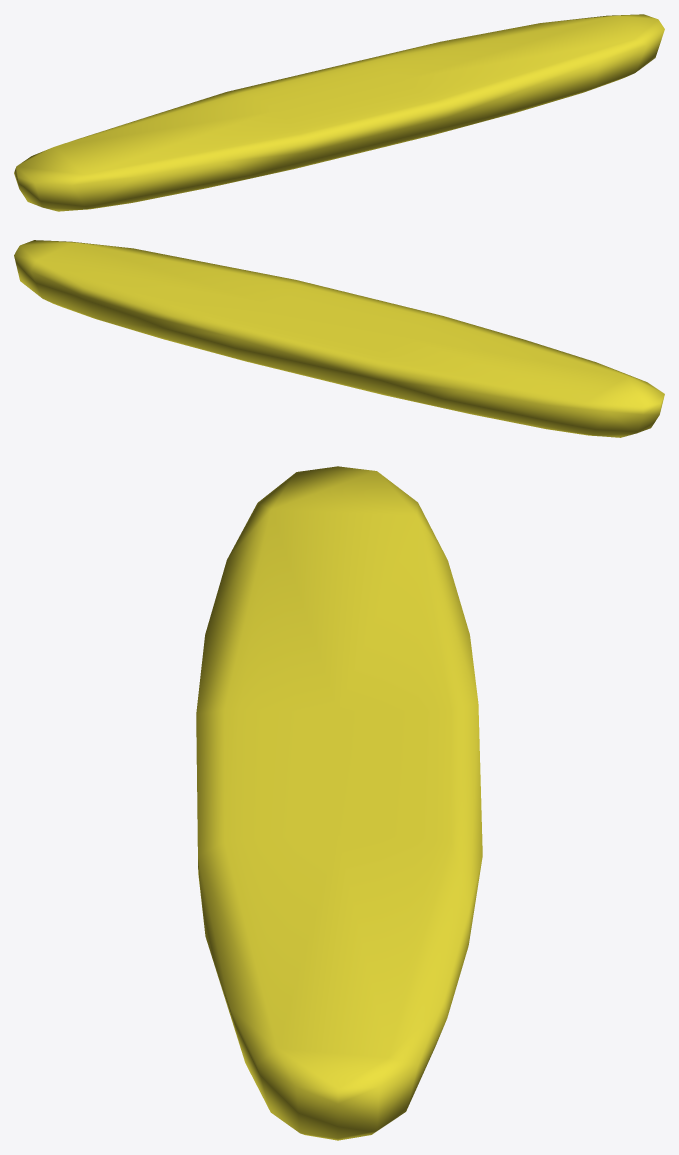
The model's file is yut(2) (4).glb.
3 renders of one model, top to bottom at view 1: azimuth 30°, elevation 25°; view 2: azimuth 150°, elevation 25°; view 3: azimuth 270°, elevation 25°, orthographic. The views are drawn at different scales.
Visible parts, largest first — view 1: Cube.003; view 2: Cube.003; view 3: Cube.003.
Boxes of the visible parts, x1,y1,x2,y2 form: Cube.003: (14, 14, 664, 211); Cube.003: (14, 240, 664, 437); Cube.003: (196, 466, 482, 1140).
Size of the model in its own units: 12.56 by 0.9094 by 2.42.
Materials: 1 (1 with a texture image).
